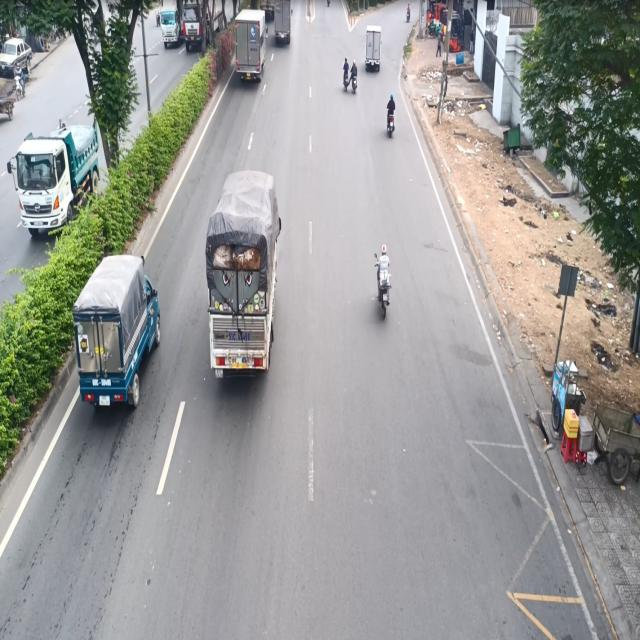motor: (373, 240, 393, 322), (382, 90, 399, 142), (350, 55, 360, 96), (340, 58, 351, 94)
truck: (201, 170, 285, 383), (72, 242, 162, 428), (232, 8, 266, 89), (363, 21, 384, 74)
